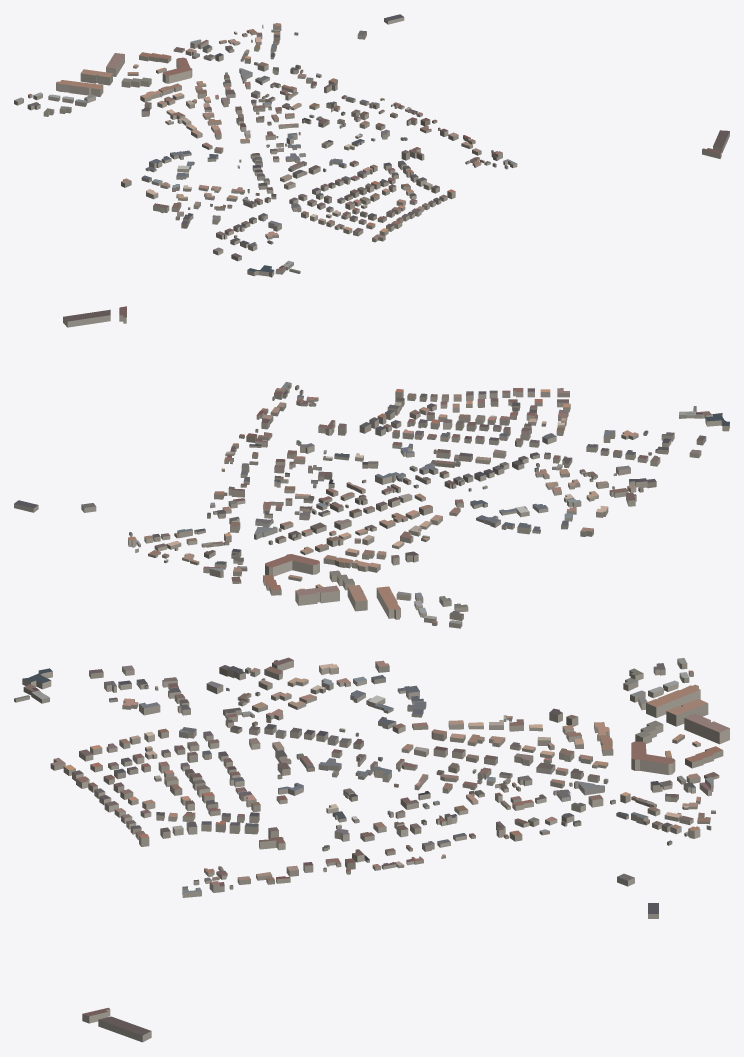
3 renders of one model, top to bottom at view 1: azimuth 30°, elevation 25°; view 2: azimuth 150°, elevation 25°; view 3: azimuth 270°, elevation 25°, orthographic. The views are drawn at different scales.
Visible parts, largest first — view 1: tuile; view 2: tuile; view 3: tuile.
Part boxes in pixels (box(x1,y1,x2,y2)): tuile: box(14, 14, 729, 277); tuile: box(14, 306, 729, 628); tuile: box(14, 657, 729, 1042).
Size of the model in its own units: 998 by 52.49 by 845.
